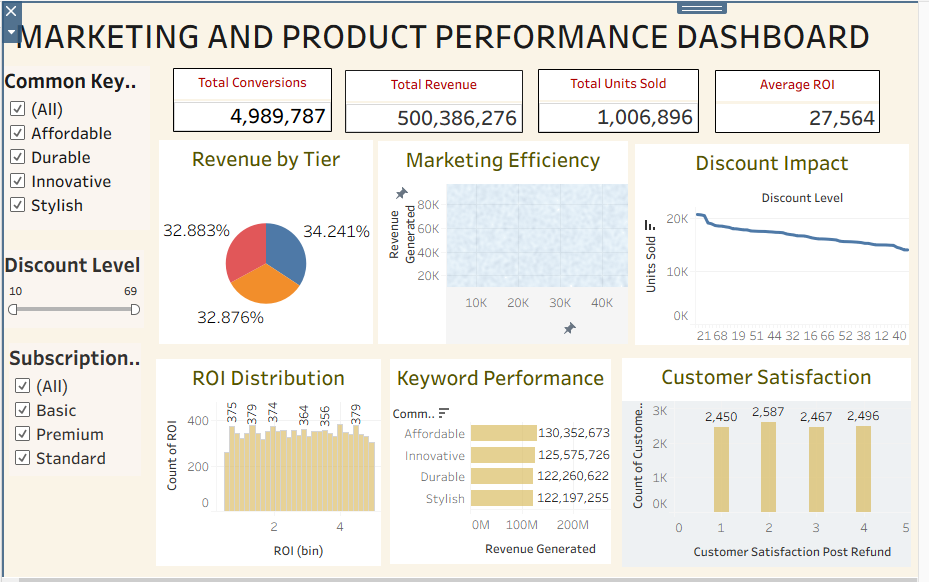

This screenshot's page, from the dashboard's own definition file:
{"tool":"tableau","page":{"name":"Dashboard 1","canvas":[1000,1000],"units":"permille","ordinal":0},"visuals":[{"type":"title","box":[7.1,6.4,623.6,42.1]},{"type":"filter","title":"Sheet 4","param":"[federated.0oec3qs166q5mr19f8qbx0k6yt2y].[none:Common_Keywords:nk]","box":[1.4,51.6,104.3,130.2]},{"type":"worksheet","title":"Sheet 4","mark":"Automatic","box":[122.1,53.4,113.7,51.1]},{"type":"worksheet","title":"Sheet 5","mark":"Automatic","box":[382.6,54,115.3,51.1]},{"type":"worksheet","title":"Sheet 6","mark":"Automatic","box":[508.9,54.6,117.9,50]},{"type":"worksheet","title":"Sheet 3","mark":"Automatic","box":[244.7,55.1,127.4,50]},{"type":"worksheet","title":"Sheet 7","mark":"Pie","box":[112.1,110.3,152.9,161.9]},{"type":"worksheet","title":"Sheet 11","mark":"Heatmap","rows":["Revenue_Generated"],"cols":["Budget"],"box":[268.6,111.1,178.6,161.1]},{"type":"worksheet","title":"Sheet 8","mark":"Line","rows":["Units_Sold"],"cols":["Discount_Level"],"box":[452.1,113.5,195.7,159.5]},{"type":"filter","title":"Sheet 3","param":"[federated.0oec3qs166q5mr19f8qbx0k6yt2y].[none:Discount_Level:qk]","box":[1.4,197.6,100,61.9]},{"type":"filter","title":"Sheet 5","param":"[federated.0oec3qs166q5mr19f8qbx0k6yt2y].[none:Subscription_Tier:nk]","box":[5,271.4,94.3,105.6]},{"type":"worksheet","title":"Sheet 10","mark":"Bar","rows":["Customer_ID"],"cols":["Customer_Satisfaction_Post_Refund"],"box":[442.9,283.3,206.4,165.9]},{"type":"worksheet","title":"Sheet 12","mark":"Automatic","rows":["ROI"],"cols":["ROI (bin)"],"box":[110,284.1,160.7,164.3]},{"type":"worksheet","title":"Sheet 9","mark":"Automatic","rows":["Common_Keywords"],"cols":["Revenue_Generated"],"box":[277.1,284.1,157.9,162.7]}]}

Visuals, with their boxes on the dashboard's canvas, which has no fixed pixel size, in thousandths of its width and height (x1, y1, x2, y2). These are canvas units, not pixel positions in the 929x582 screenshot, which may show the page scaled, cropped or inside an application window:
title: l=7, t=6, r=631, b=48
"Sheet 4" filter: l=1, t=52, r=106, b=182
"Sheet 4" worksheet: l=122, t=53, r=236, b=104
"Sheet 5" worksheet: l=383, t=54, r=498, b=105
"Sheet 6" worksheet: l=509, t=55, r=627, b=105
"Sheet 3" worksheet: l=245, t=55, r=372, b=105
"Sheet 7" worksheet (Pie marks): l=112, t=110, r=265, b=272
"Sheet 11" worksheet (Heatmap marks): l=269, t=111, r=447, b=272
"Sheet 8" worksheet (Line marks): l=452, t=114, r=648, b=273
"Sheet 3" filter: l=1, t=198, r=101, b=260
"Sheet 5" filter: l=5, t=271, r=99, b=377
"Sheet 10" worksheet (Bar marks): l=443, t=283, r=649, b=449
"Sheet 12" worksheet: l=110, t=284, r=271, b=448
"Sheet 9" worksheet: l=277, t=284, r=435, b=447
